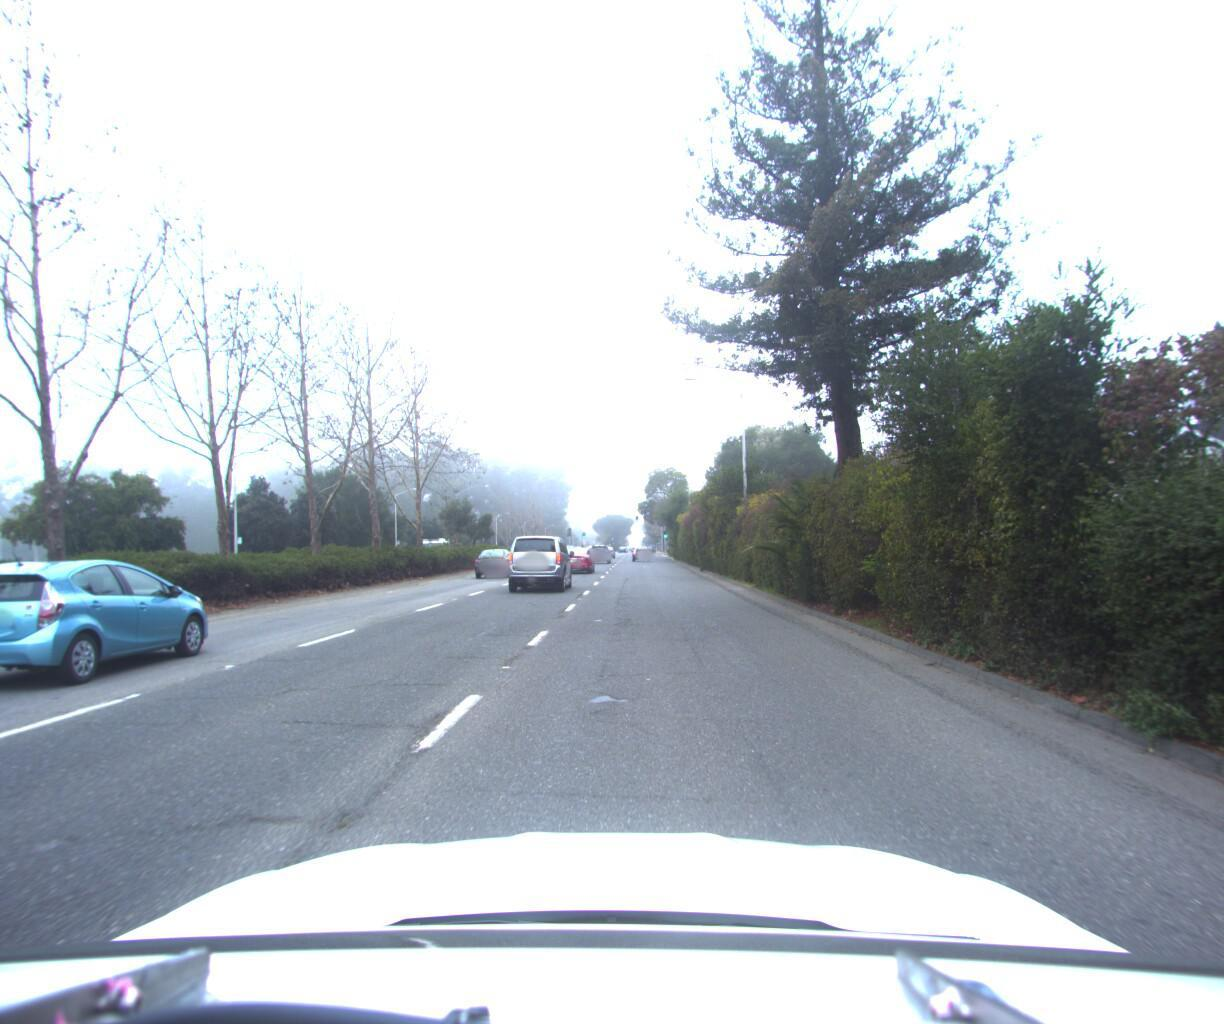car: (498, 530, 574, 593), (470, 543, 521, 576), (557, 541, 597, 569), (589, 538, 613, 558), (630, 536, 650, 555)
emergency_vehicle: (420, 534, 468, 561)
